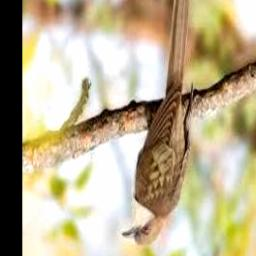Cuckoo: (121, 0, 192, 247)
